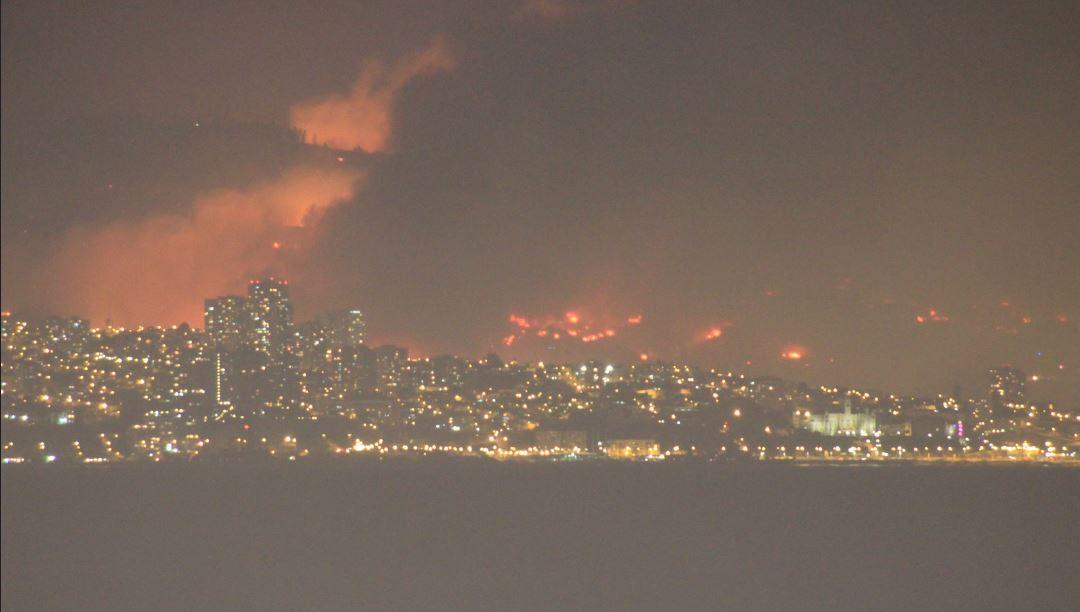smoke: (102, 230, 228, 303)
